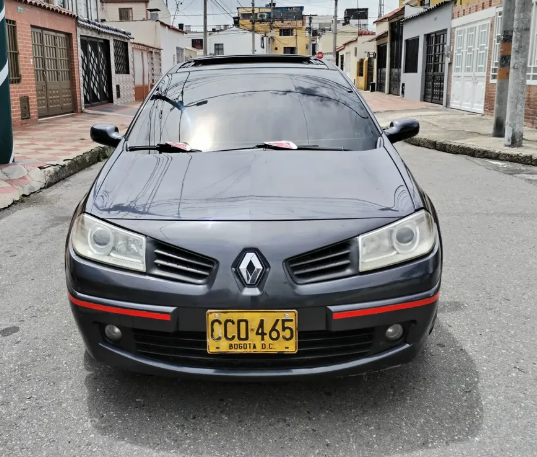placa: (207, 311, 299, 354)
